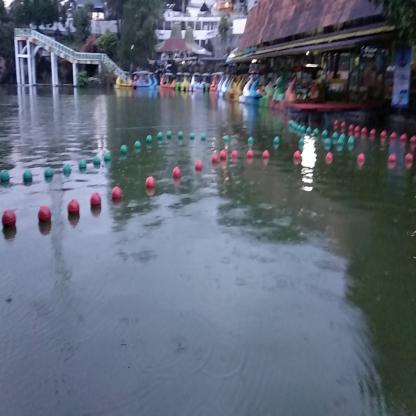green_buoy: (23, 166, 33, 184), (0, 169, 10, 186), (44, 166, 54, 182), (78, 158, 86, 172), (104, 152, 112, 165), (64, 164, 71, 176), (134, 140, 142, 150), (94, 155, 100, 168), (347, 137, 354, 148), (299, 136, 305, 148), (146, 134, 153, 144), (247, 136, 254, 146), (121, 145, 127, 156), (166, 130, 172, 140), (324, 139, 330, 148), (338, 137, 342, 150), (274, 136, 279, 146), (201, 134, 207, 142), (190, 132, 195, 141), (158, 130, 162, 140), (178, 132, 183, 140)
red_buoy: (2, 210, 16, 233), (39, 207, 52, 224), (90, 192, 101, 212), (69, 199, 79, 218), (112, 189, 122, 205), (146, 177, 154, 194), (173, 167, 182, 182), (404, 154, 413, 168), (219, 150, 227, 162), (262, 150, 270, 162), (358, 153, 366, 165), (195, 160, 203, 172), (231, 148, 238, 161), (294, 151, 301, 164), (389, 155, 395, 170), (247, 148, 254, 160), (326, 151, 332, 164), (381, 130, 387, 142), (400, 133, 407, 143), (411, 134, 415, 150), (212, 153, 217, 164), (392, 133, 396, 142)
